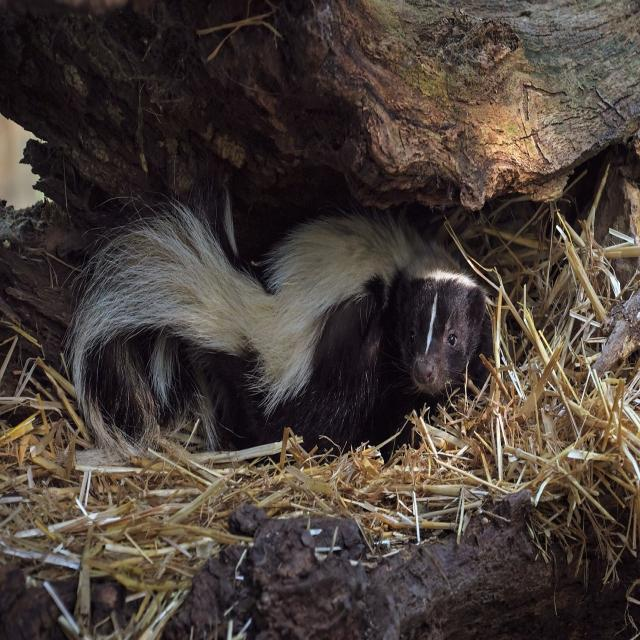Skunk: (85, 184, 493, 436)
